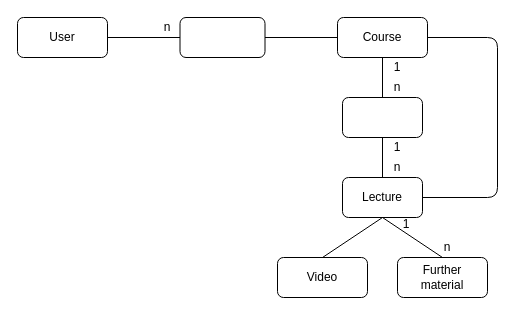
Some shapes in this 516 by 315 pixel diagram are drawn without their labels. Each missing label, with the centre of its shape:
Enrollment: the point at 222,37
Module: the point at 382,117
